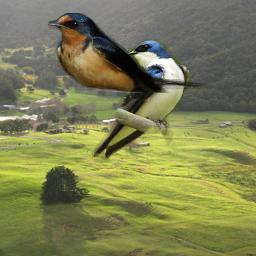Swallow: (48, 13, 209, 93), (92, 39, 191, 160)
